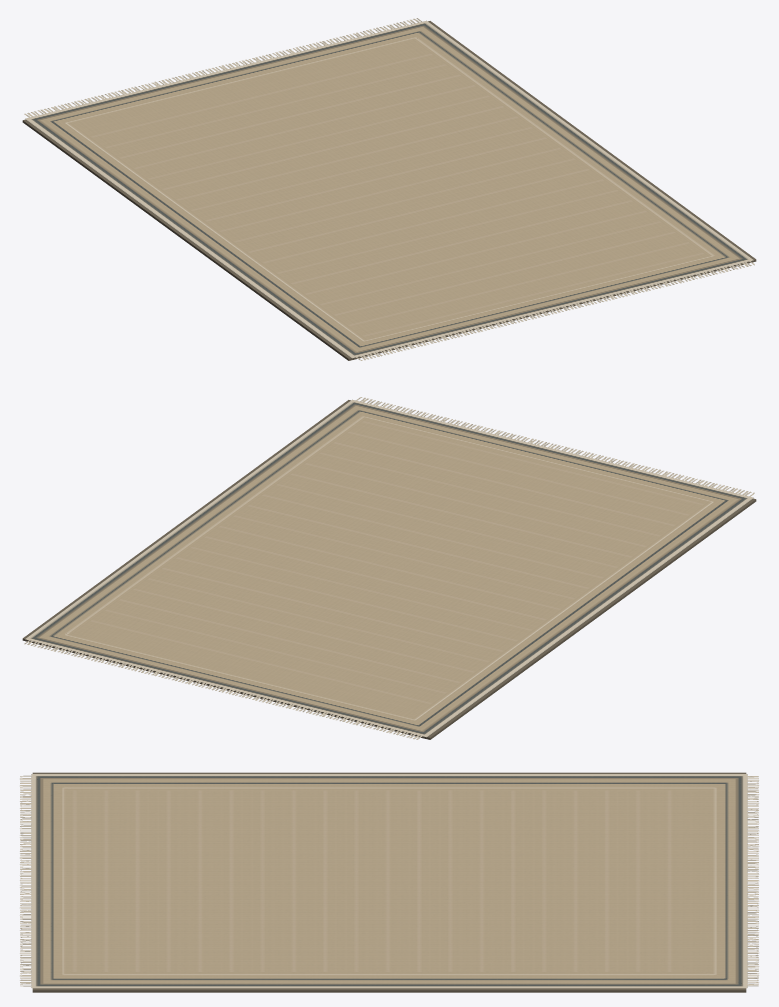
Rendered from officeLinenSand.glb.
3 views of the same model, one above another, from view 1: azimuth 30°, elevation 25°; view 2: azimuth 150°, elevation 25°; view 3: azimuth 270°, elevation 25° (orthographic). The views are drawn at different scales.
Bounding box in the file's own units: 2.4 × 0.014 × 3.5.
2 materials, 1 textured.
